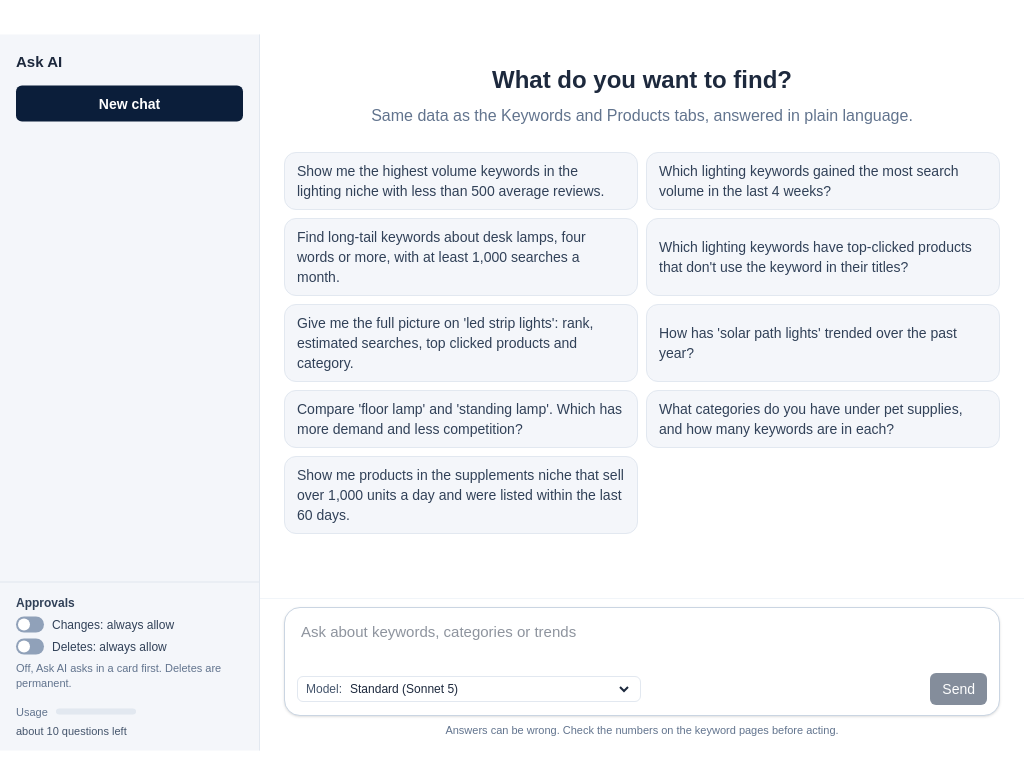
Test case: AskAi › the two "always allow" switches (spec 2026-10-01 §8) › an "Always approve" that lands while a switch's save is out survives that save failing
The width and height of the screenshot is (1024, 768).
Click the checkbox labelled "Changes: always allow" at (95, 624), box [16,616,174,632]
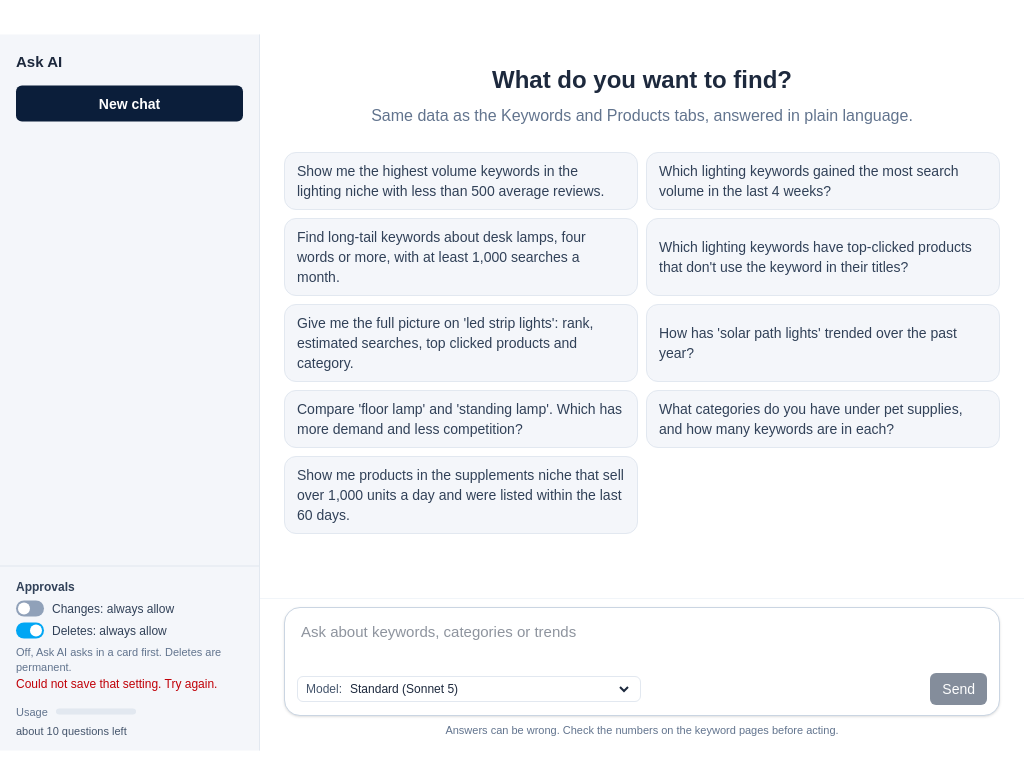
expect the checkbox labelled "Changes: always allow" is not checked: met, box [16,600,174,616]
expect the checkbox labelled "Deletes: always allow" is checked: met, box [16,622,167,638]
